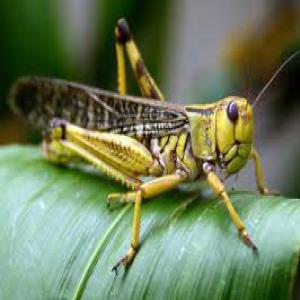locust: (9, 58, 276, 201)
